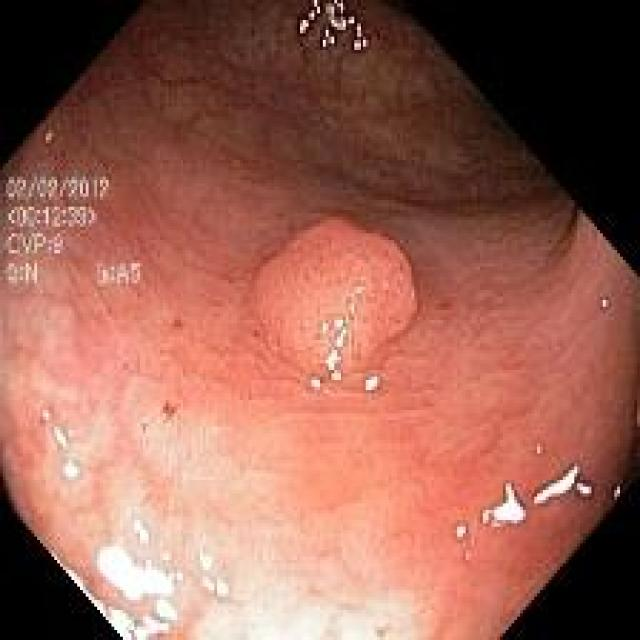Polyps: (256, 217, 418, 389)
